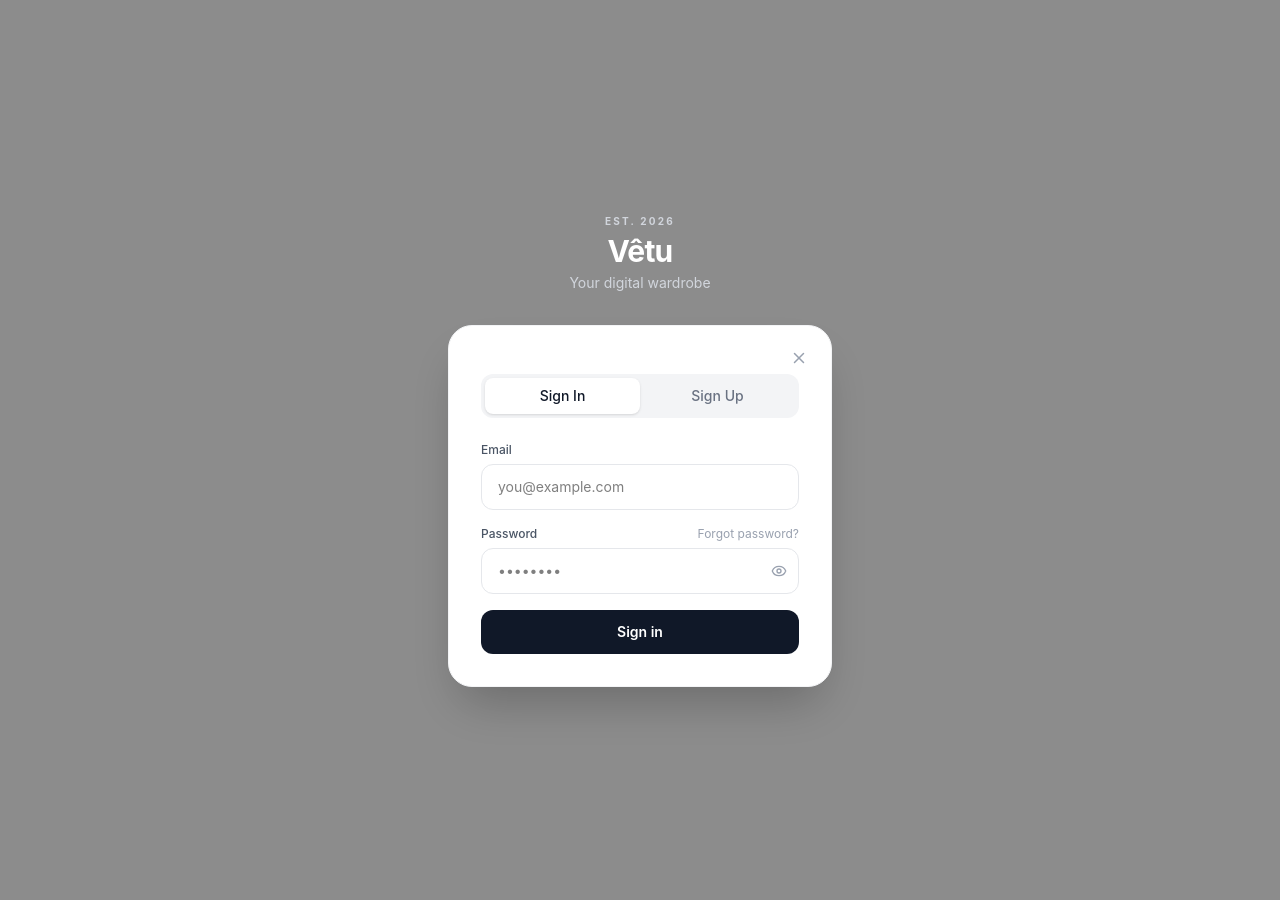
AuthModal — mode switching › shows the name field after switching to sign-up
Note: The tab bar has exactly "Sign In" and "Sign Up" buttons
Click the button "Sign Up". click: (718, 396)
box: [640,378,795,414]
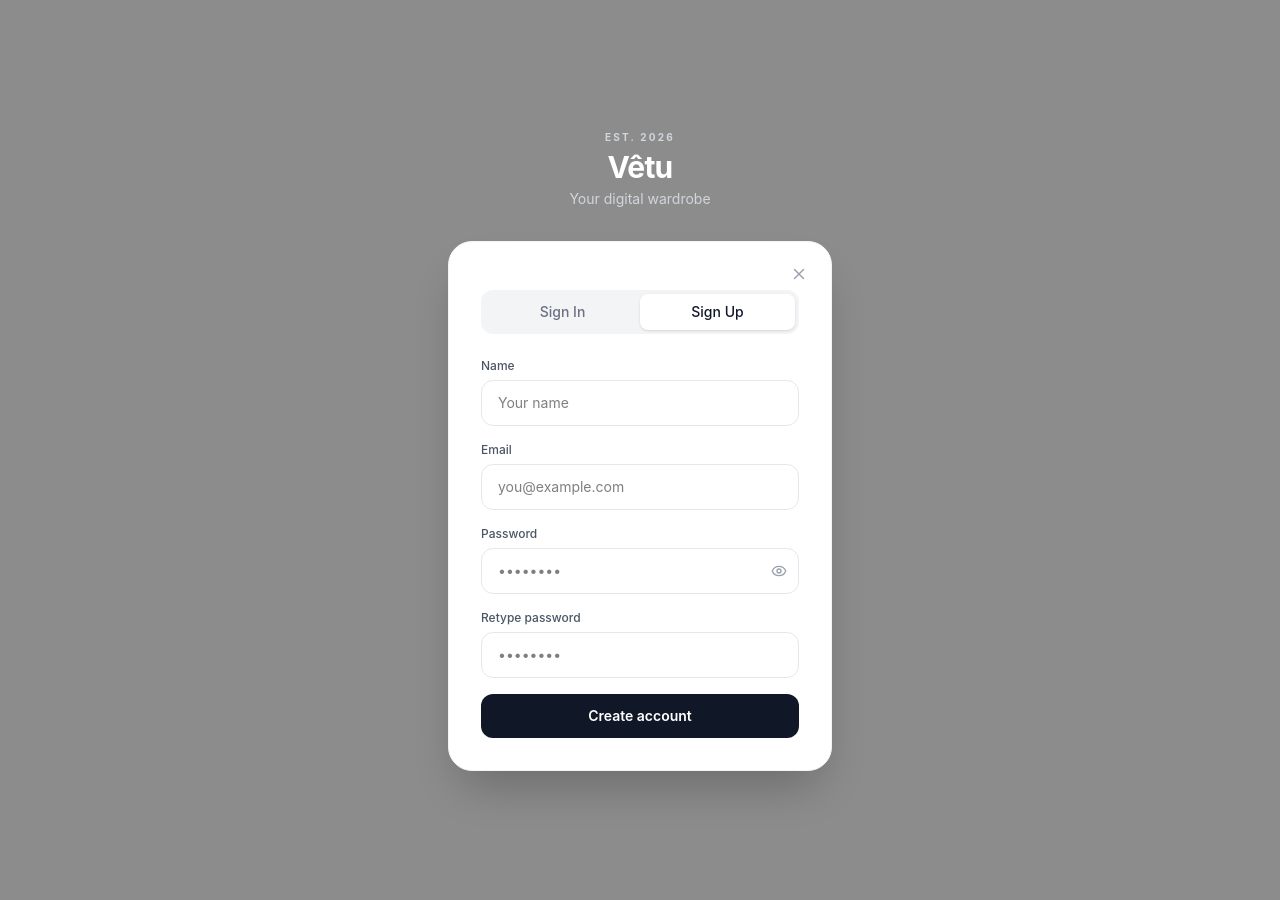
Now the field with placeholder "Your name" is shown, box [481,380,799,426]
